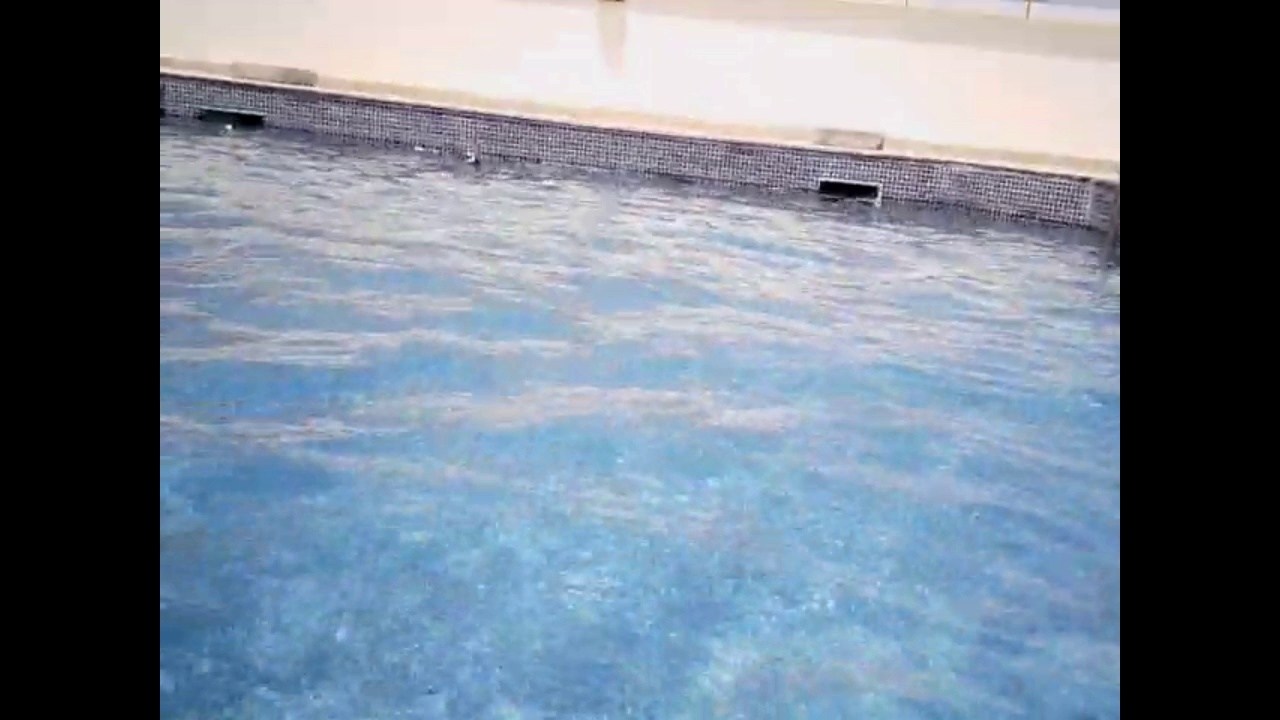debris: (458, 153, 482, 171), (220, 122, 234, 133)
